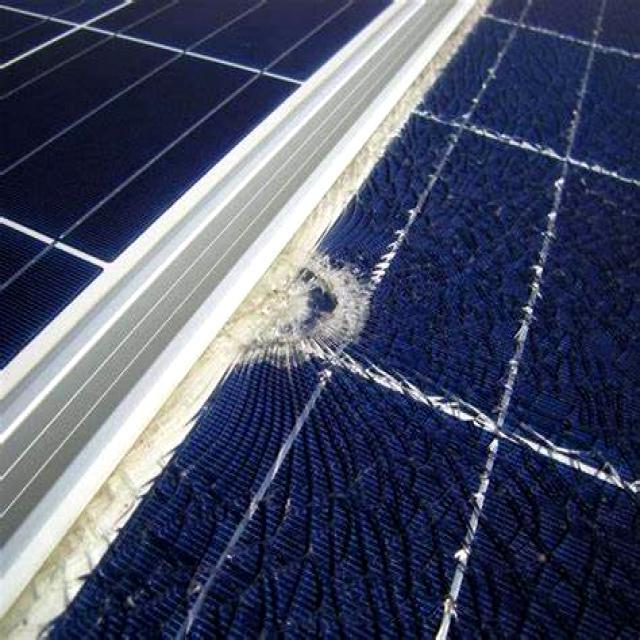cracked: (22, 7, 640, 638)
